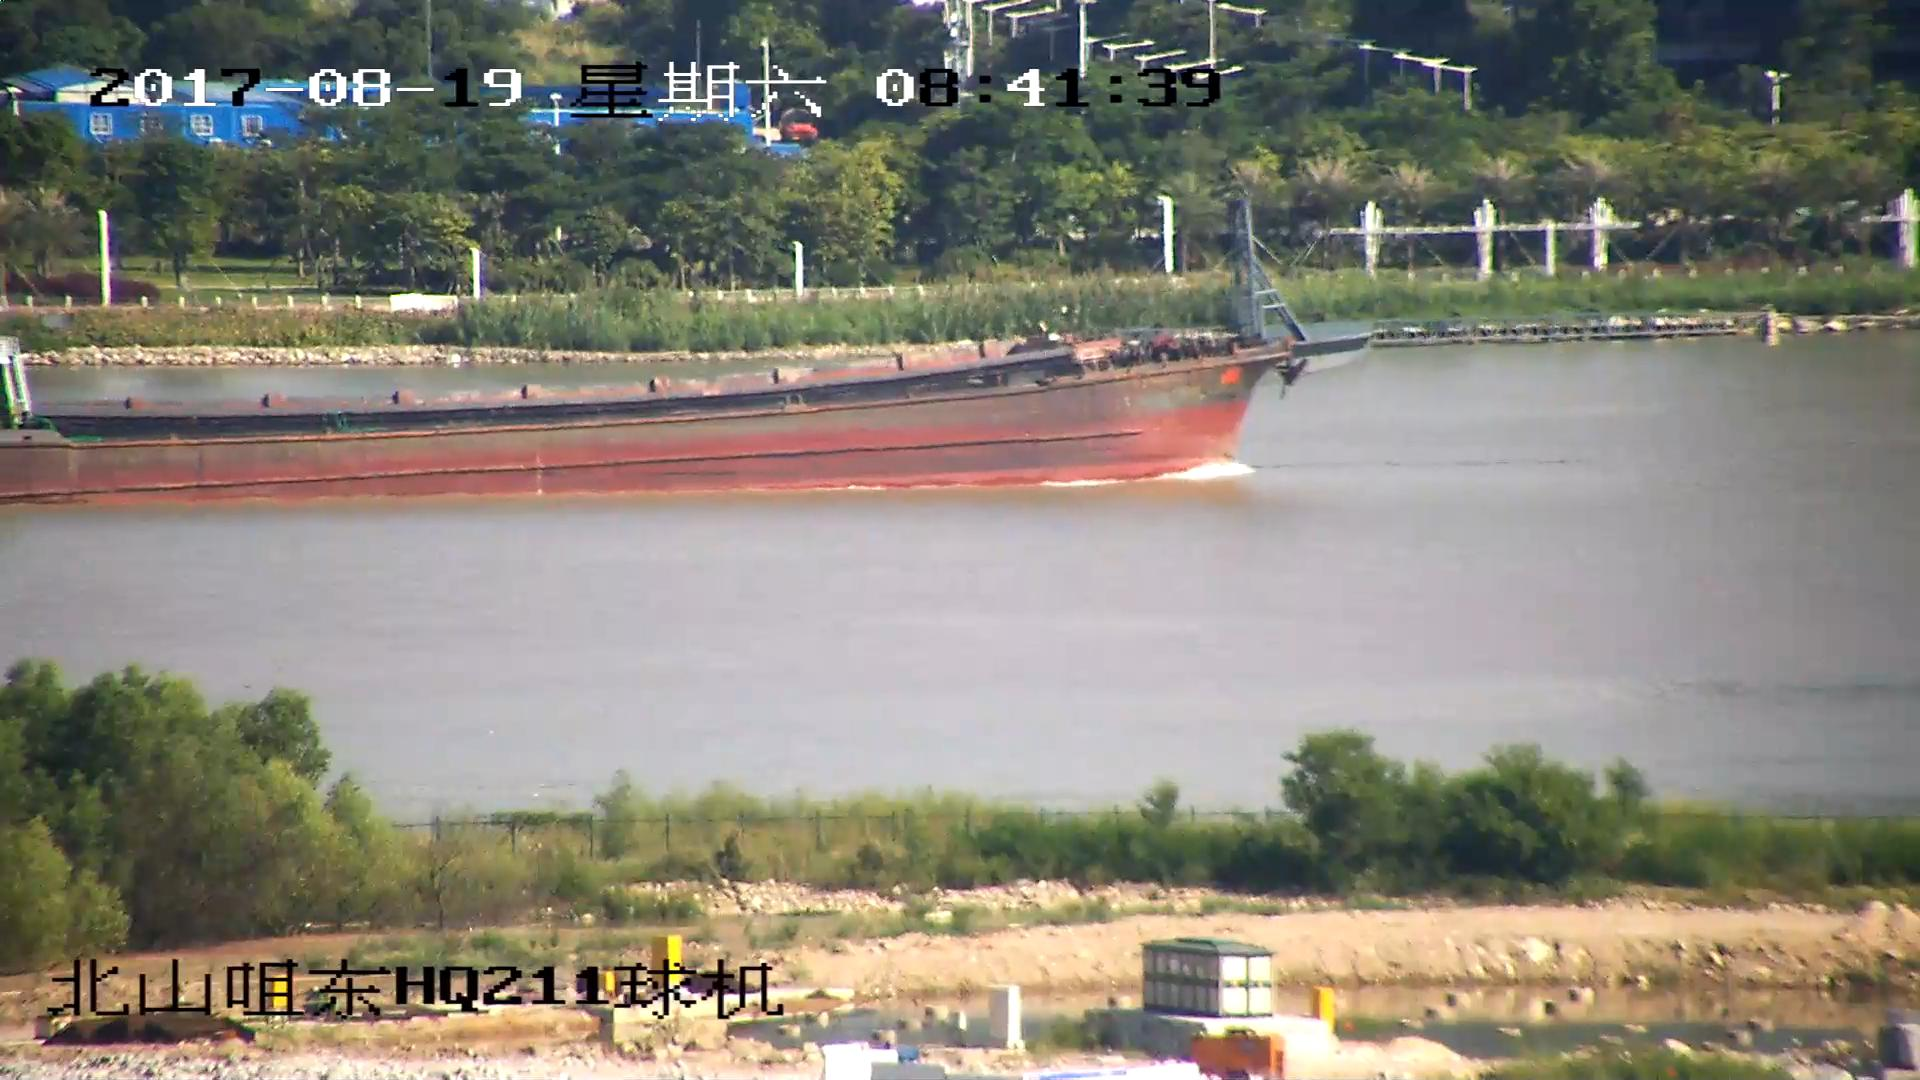bulk cargo carrier: (1, 192, 1701, 500)
